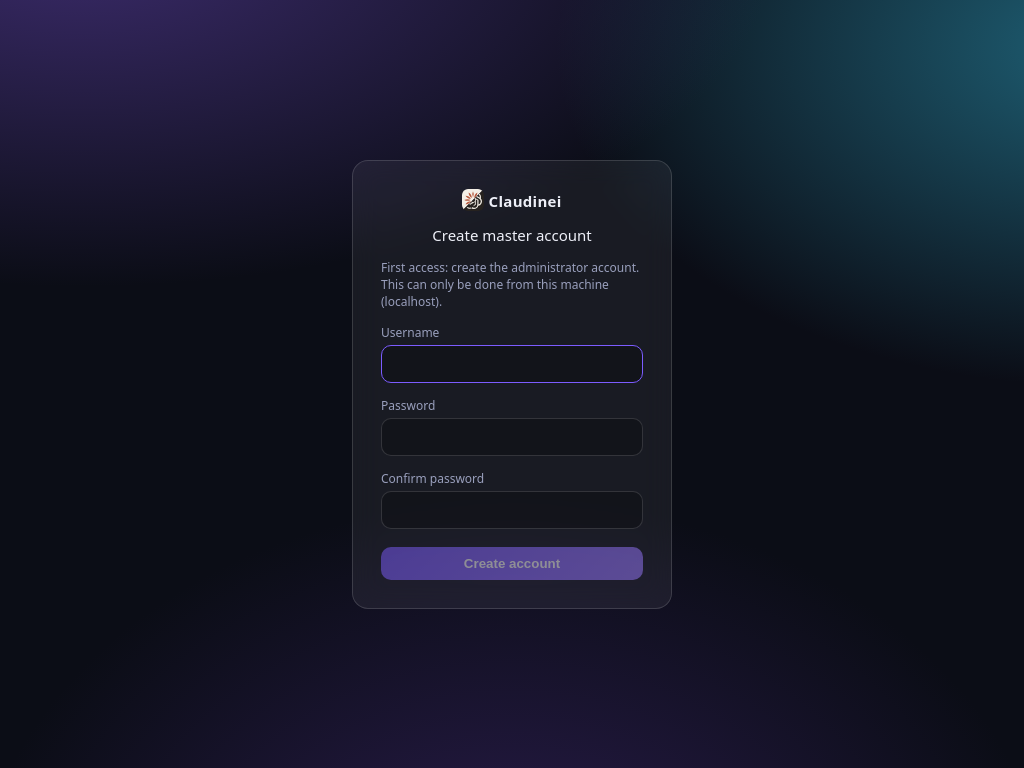
Scenario: AuthScreen › modo setup: exige confirmação igual antes de enviar
In the field labelled "Username": (512,364) [381,344,643,382], type "root"
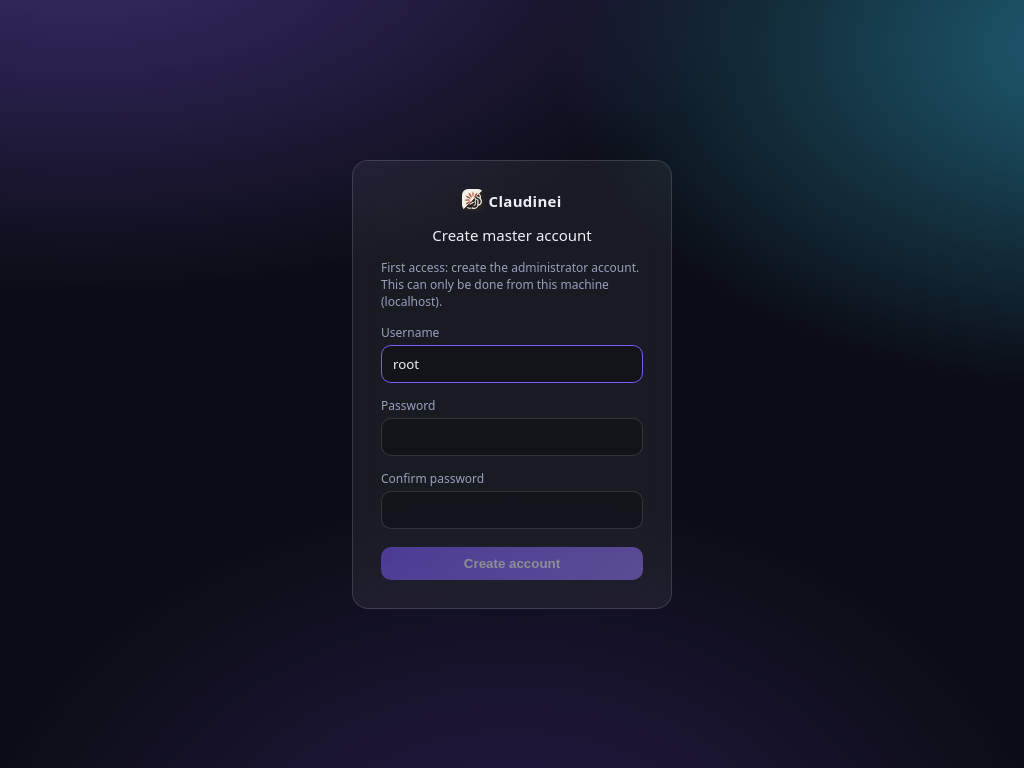
In the password field labelled "Password": (512,436) [381,418,643,456], type "abcd"
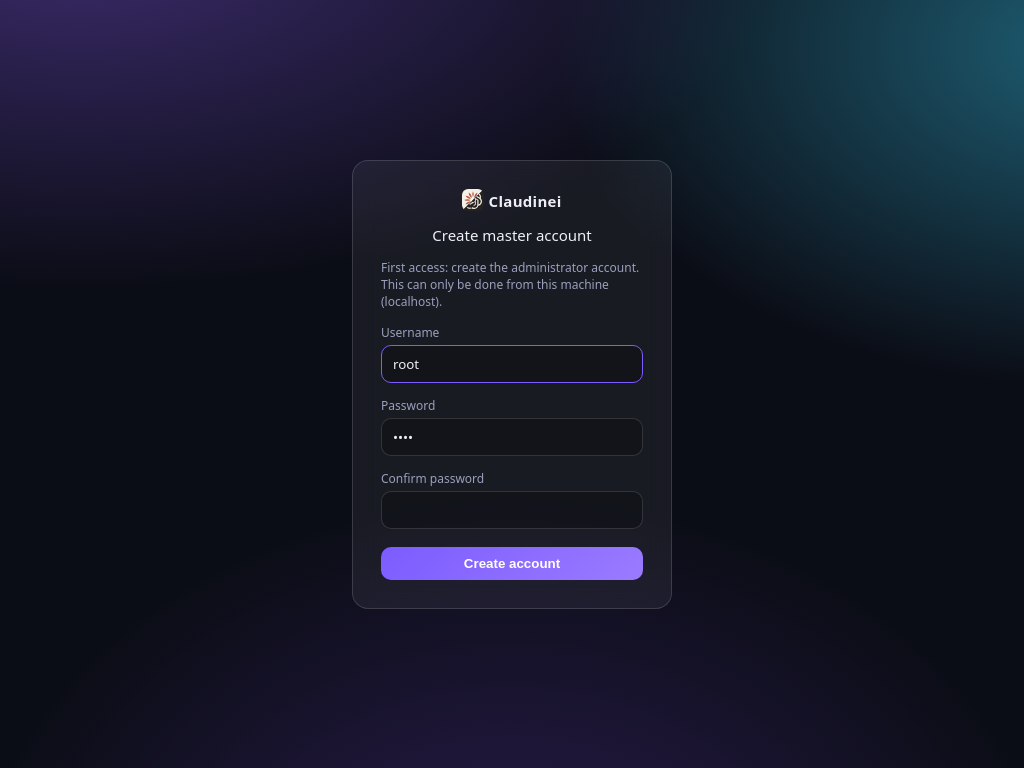
In the password field labelled "Confirm password": (512,510) [381,490,643,528], type "DIFERENTE"
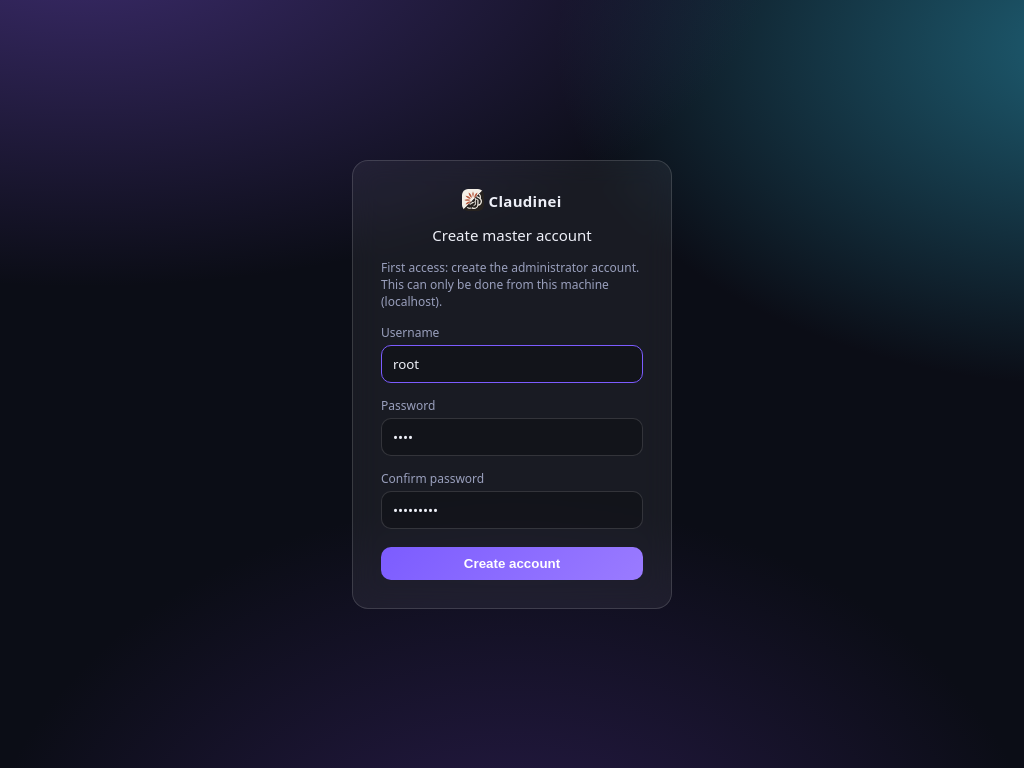
Click the button "Create account": (512,563) [381,546,643,580]
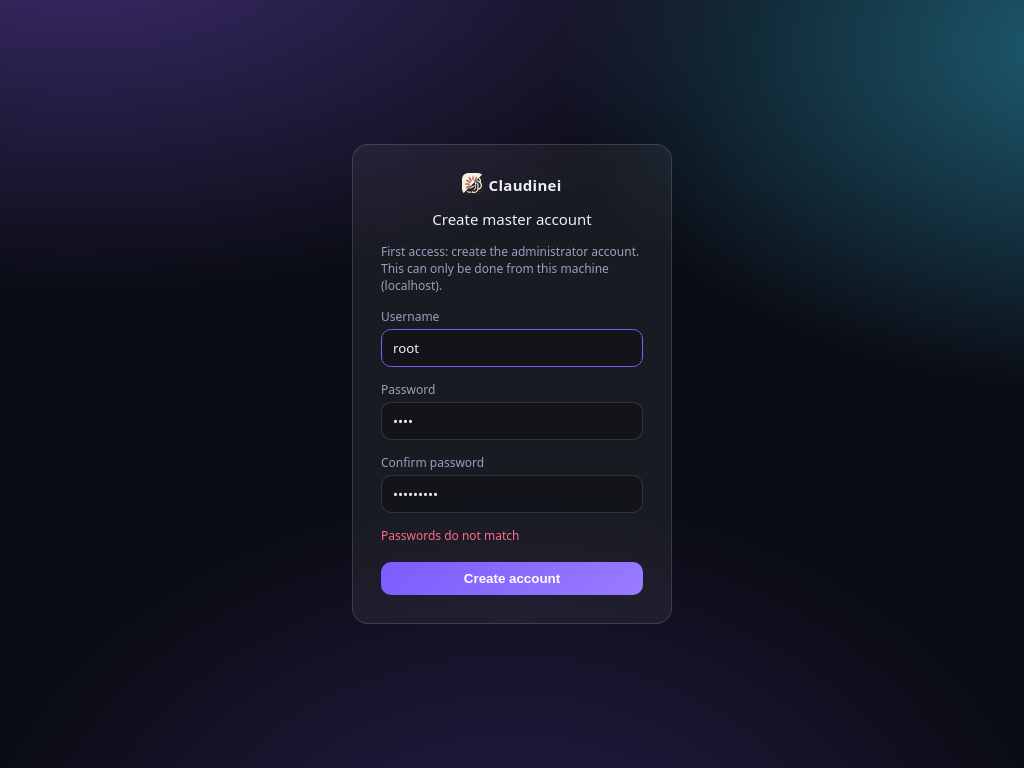
Expected: the text "Passwords do not match" is shown, [381,527,520,544]
